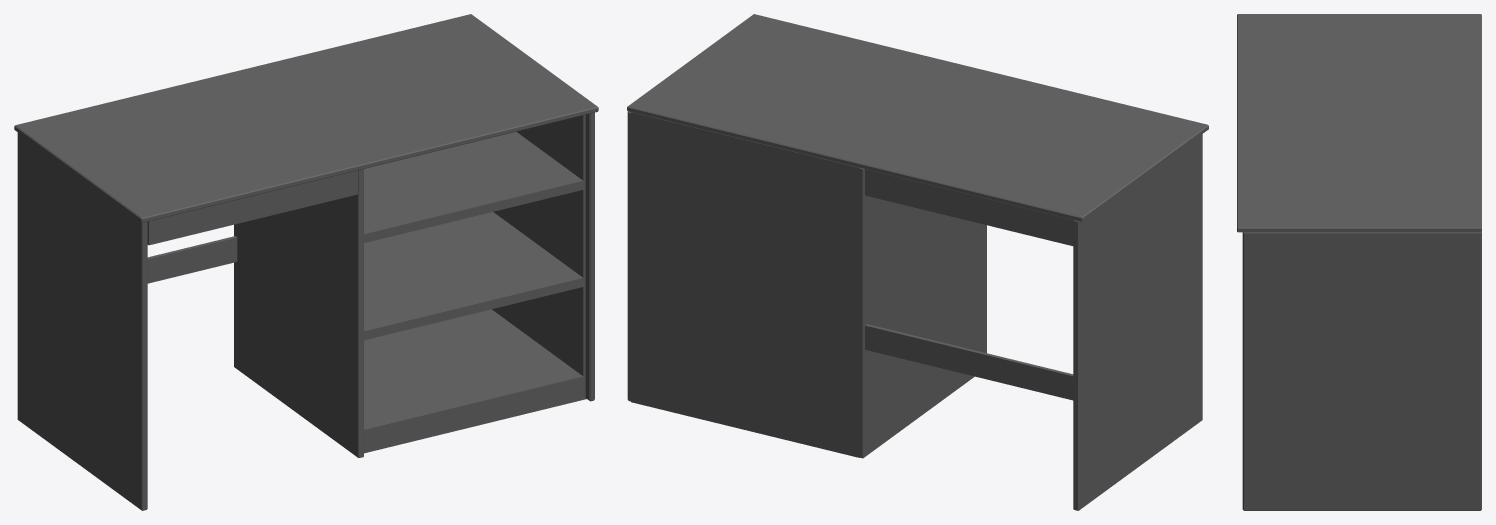
The model's file is Desk_308_2_1_DeskMesh.obj.
3 views of the same model, side by side, from view 1: azimuth 30°, elevation 25°; view 2: azimuth 150°, elevation 25°; view 3: azimuth 270°, elevation 25° (orthographic). The views are drawn at different scales.
Bounding box in the file's own units: 1.39 × 0.8562 × 0.6689.
1 material, 1 textured.
